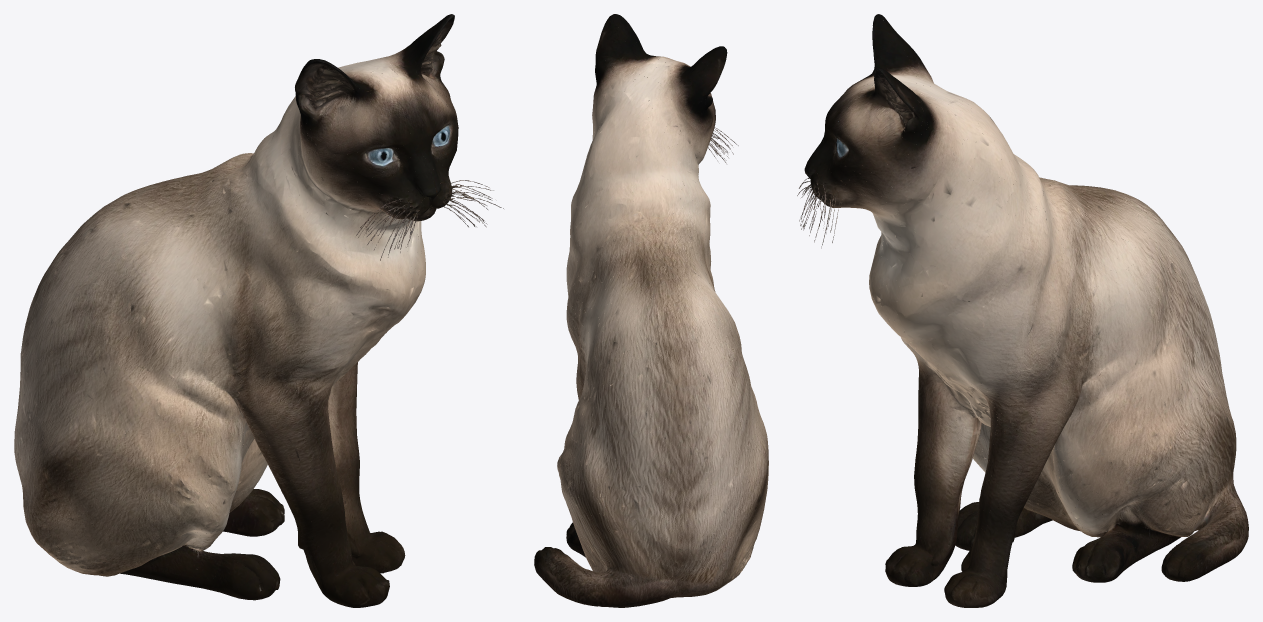
File: cat_fred__material_0.obj
The picture shows the model from 3 angles, left to right: view 1: azimuth 30°, elevation 25°; view 2: azimuth 150°, elevation 25°; view 3: azimuth 270°, elevation 25°; orthographic projection. The views are drawn at different scales.
Visible parts, largest first — view 1: Export_mesh_0; view 2: Export_mesh_0; view 3: Export_mesh_0.
Boxes of the visible parts, left/top/right/bottom form: Export_mesh_0: left=14, top=14, right=503, bottom=607; Export_mesh_0: left=534, top=14, right=768, bottom=607; Export_mesh_0: left=797, top=14, right=1248, bottom=607.
Size of the model in its own units: 5.68 by 10 by 7.55.
1 material, 1 textured.
